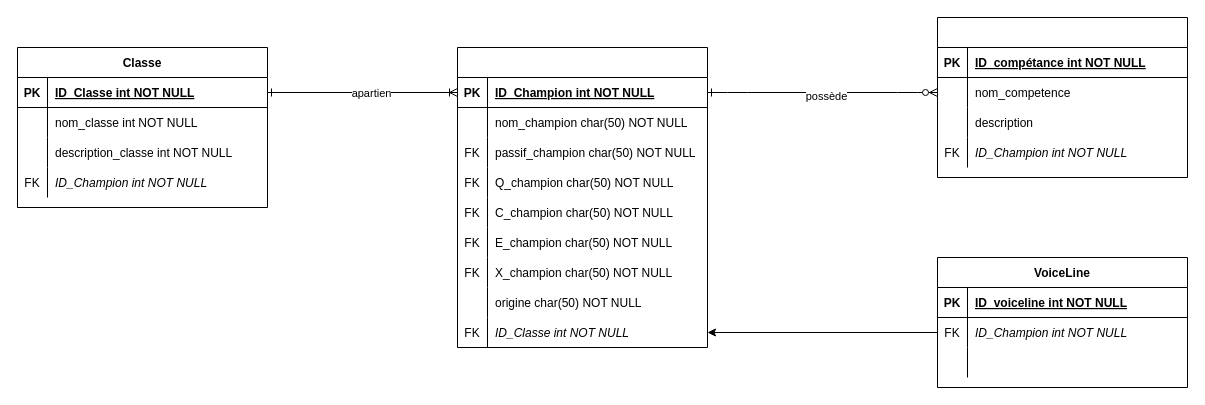
Some shapes in this 1205 by 405 pixel diagram are drawn without their labels. Each missing label, with the box of its shape:
Agent: (456, 46, 708, 348)
Compétence: (936, 16, 1188, 178)
